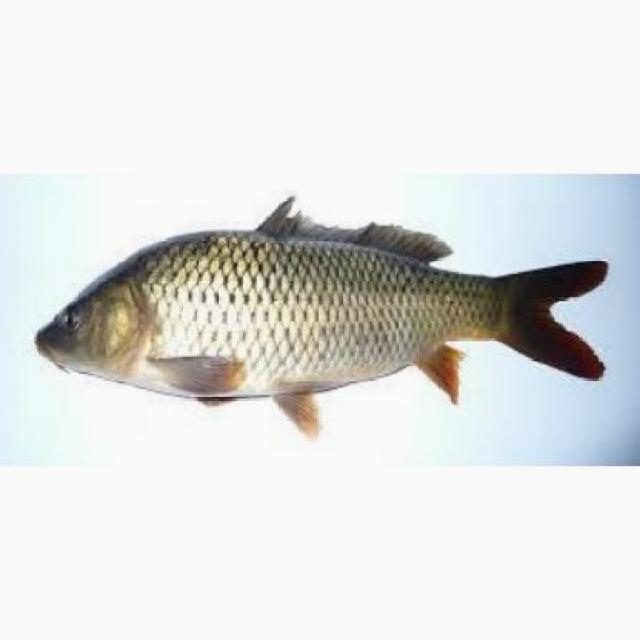ikan-mas: (36, 217, 602, 408)
